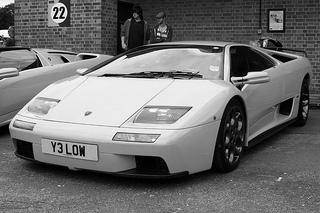car: (11, 42, 316, 179)
